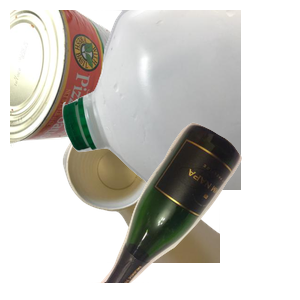glass: (87, 120, 300, 300)
metal: (10, 10, 159, 152)
plastic: (60, 10, 300, 190)
trash: (60, 120, 300, 300)
